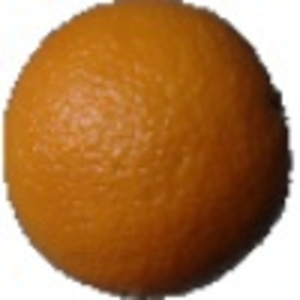laranja: (4, 3, 297, 297)
